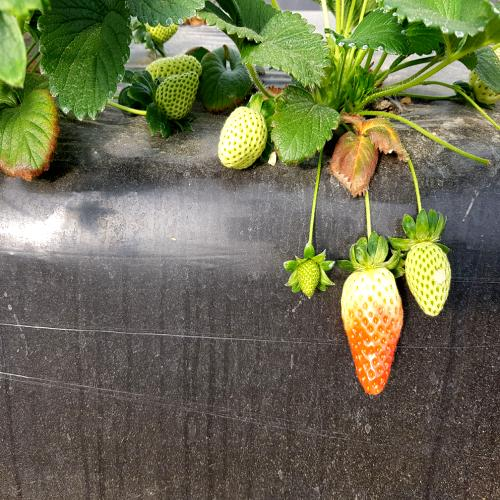partially-ripe: (338, 254, 407, 400)
